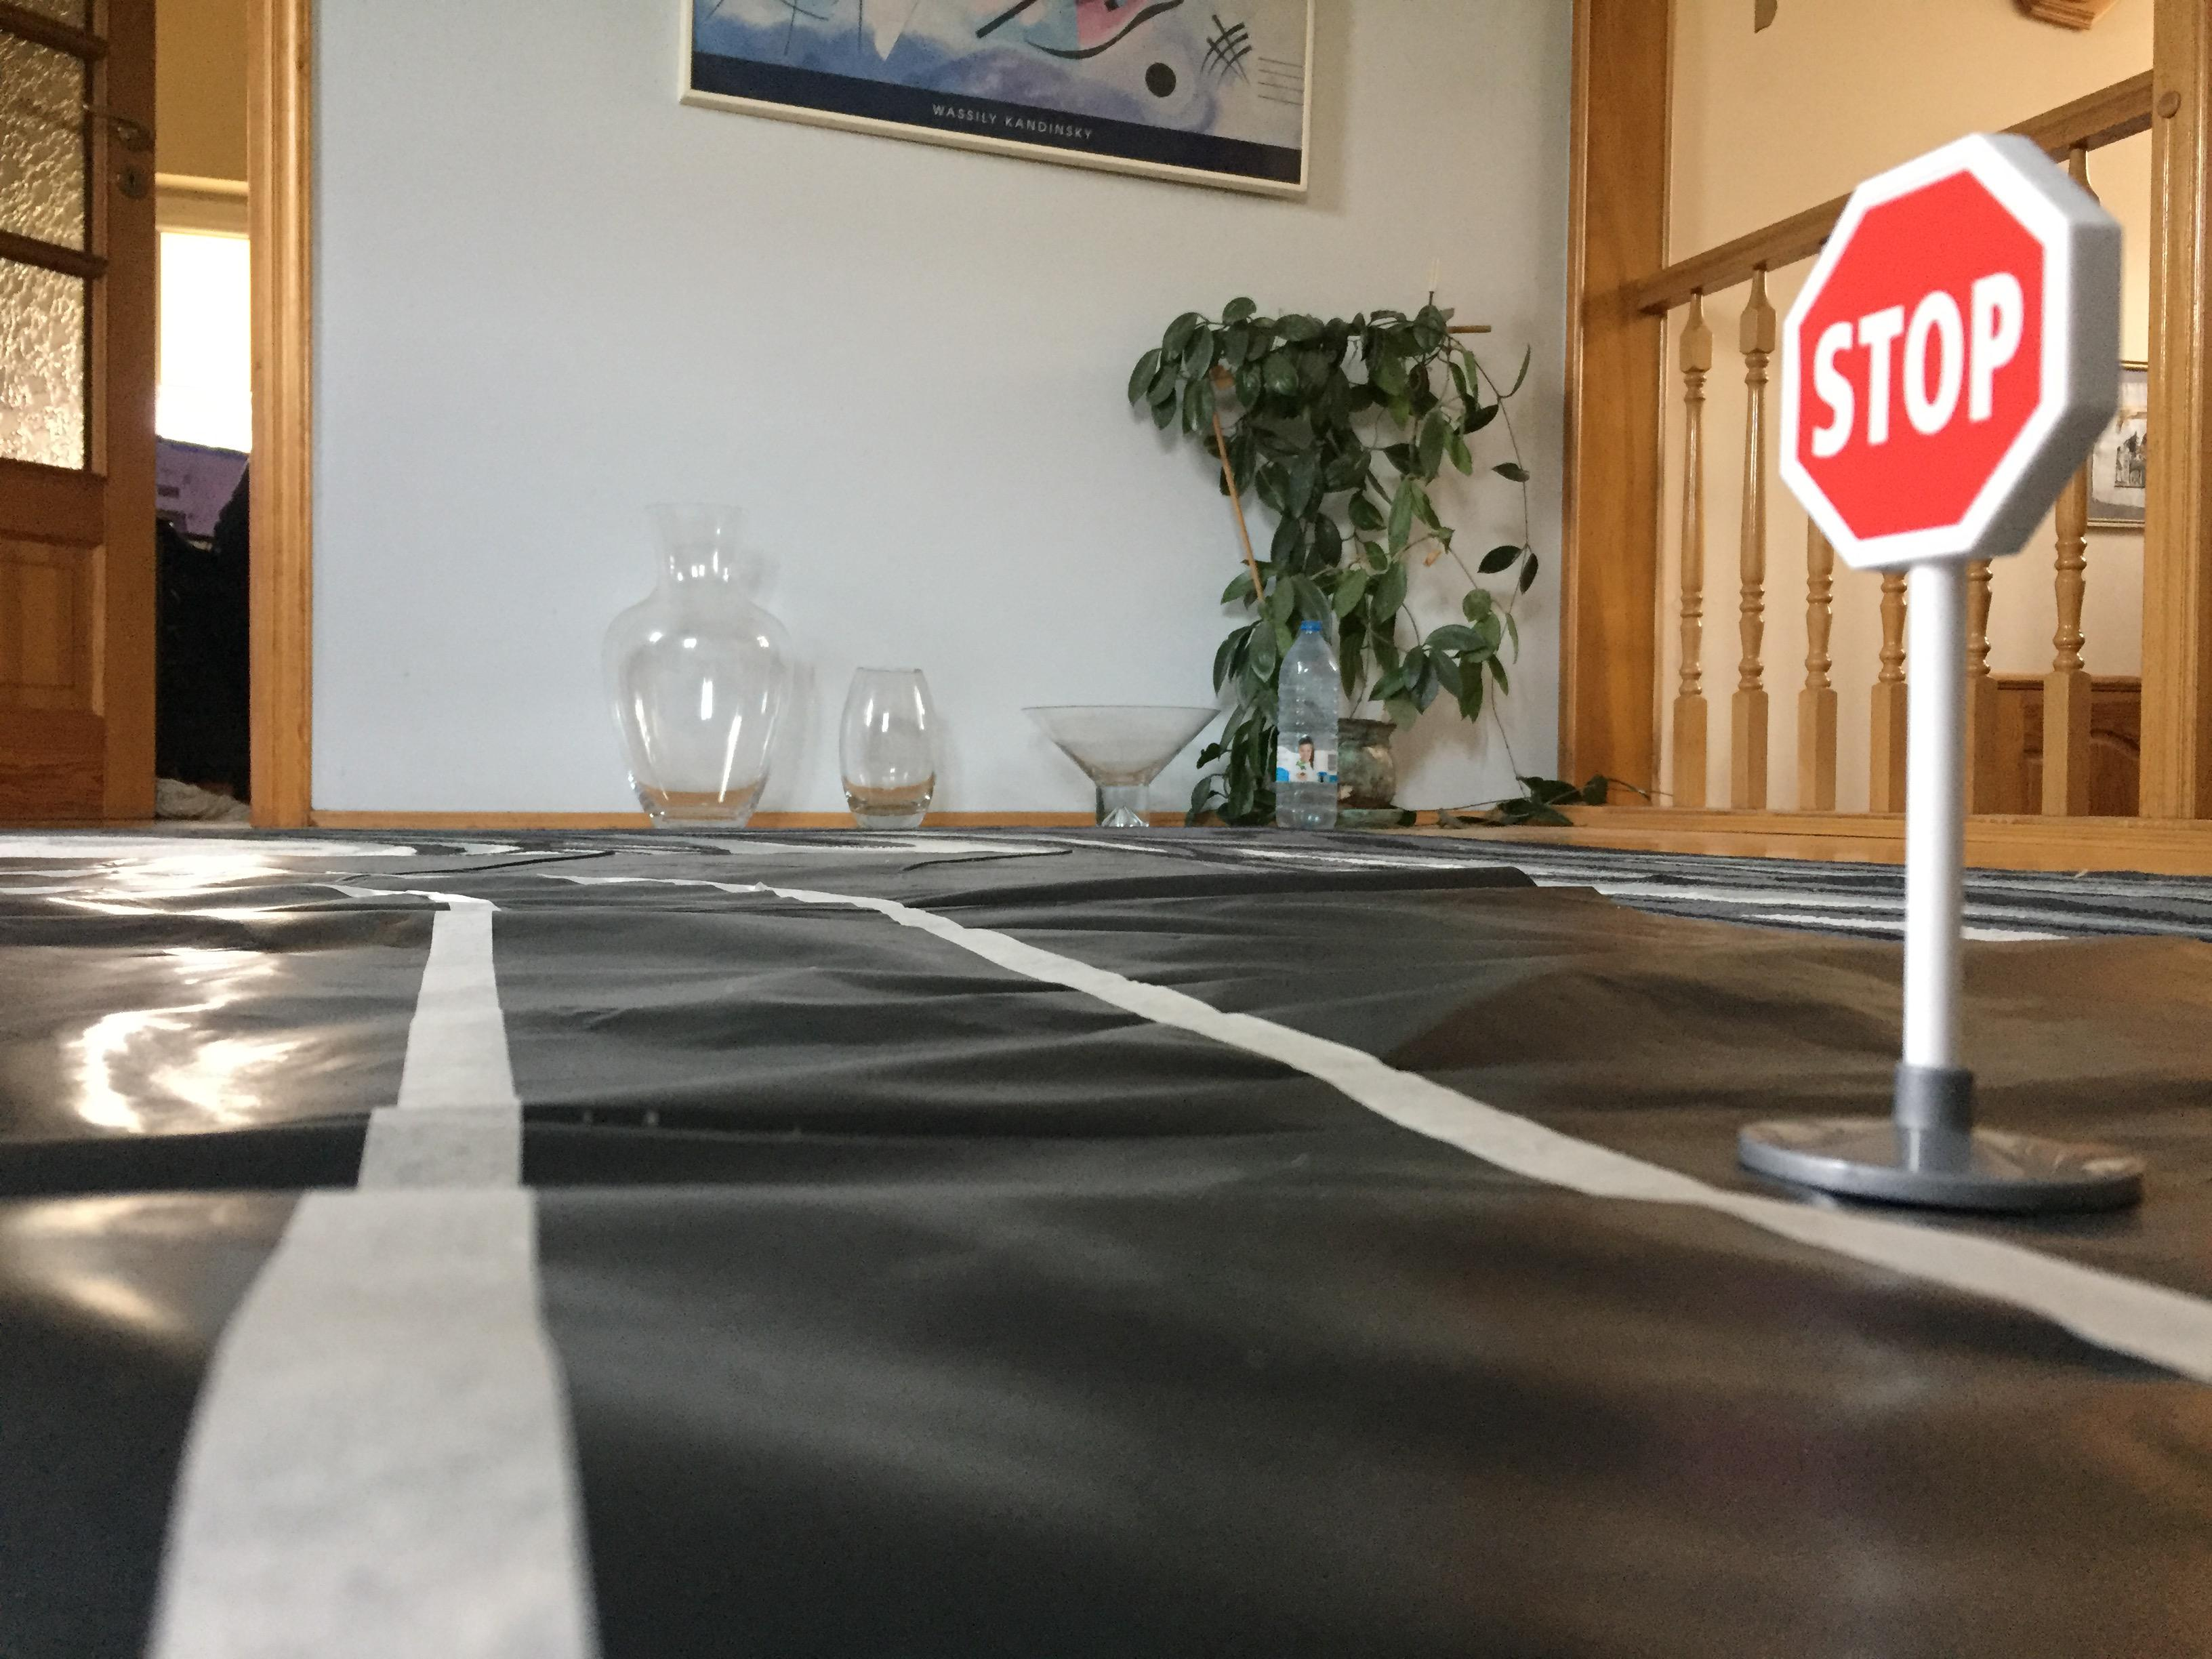stop: (1768, 124, 2141, 584)
